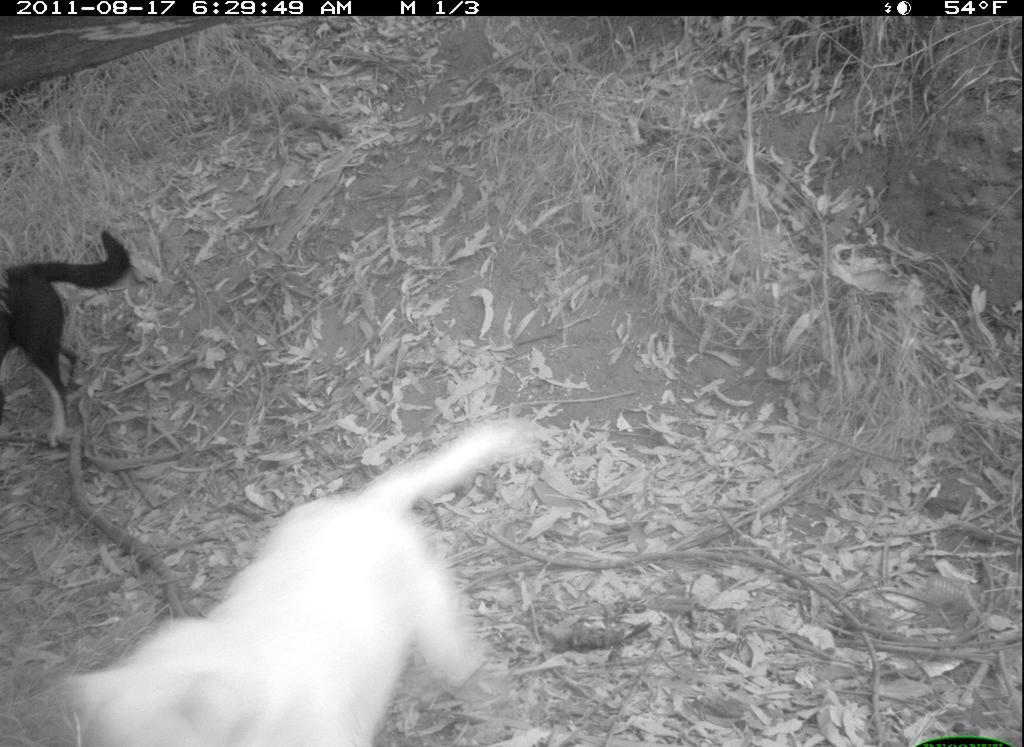dog: (59, 418, 552, 745)
